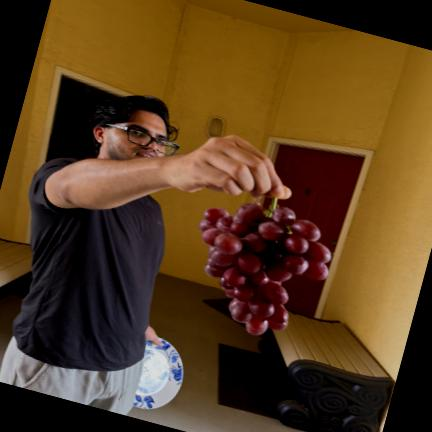grape_cluster: (198, 198, 331, 335)
